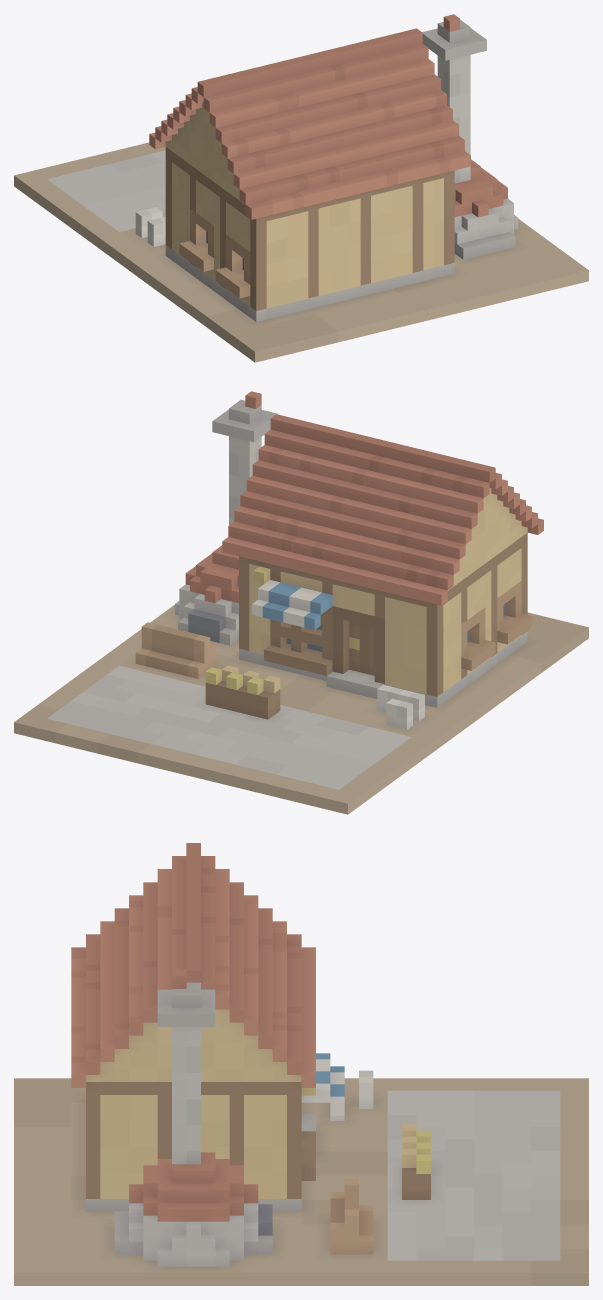
The model's file is bakery.glb.
The picture shows the model from 3 angles, top to bottom: view 1: azimuth 30°, elevation 25°; view 2: azimuth 150°, elevation 25°; view 3: azimuth 270°, elevation 25°; orthographic projection. The views are drawn at different scales.
Visible parts, largest first — view 1: bakery; view 2: bakery; view 3: bakery.
Part boxes in pixels (left/top/right/bottom): bakery: left=14, top=14, right=588, bottom=362; bakery: left=14, top=391, right=588, bottom=814; bakery: left=14, top=843, right=588, bottom=1285.
Size of the model in its own units: 4 by 2.62 by 5.
